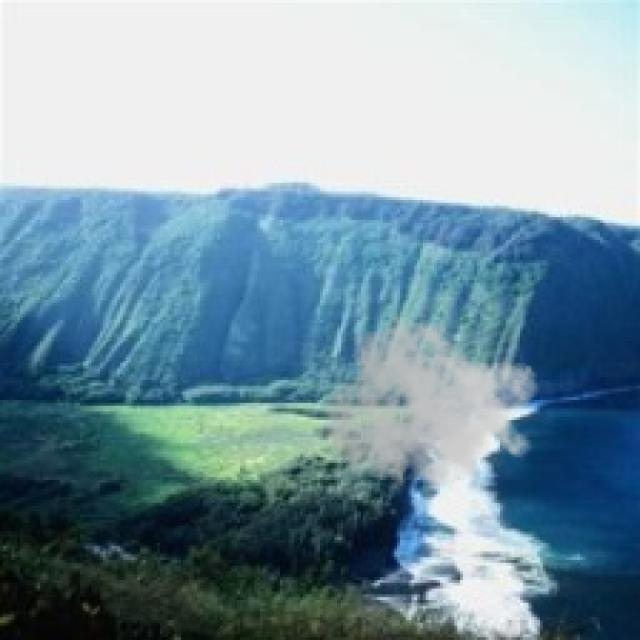Smoke: (323, 308, 540, 512)
